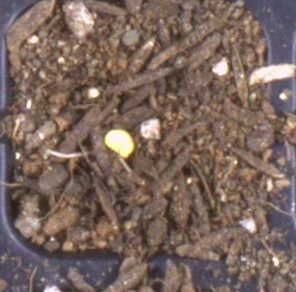chilli seed: (104, 128, 135, 158)
